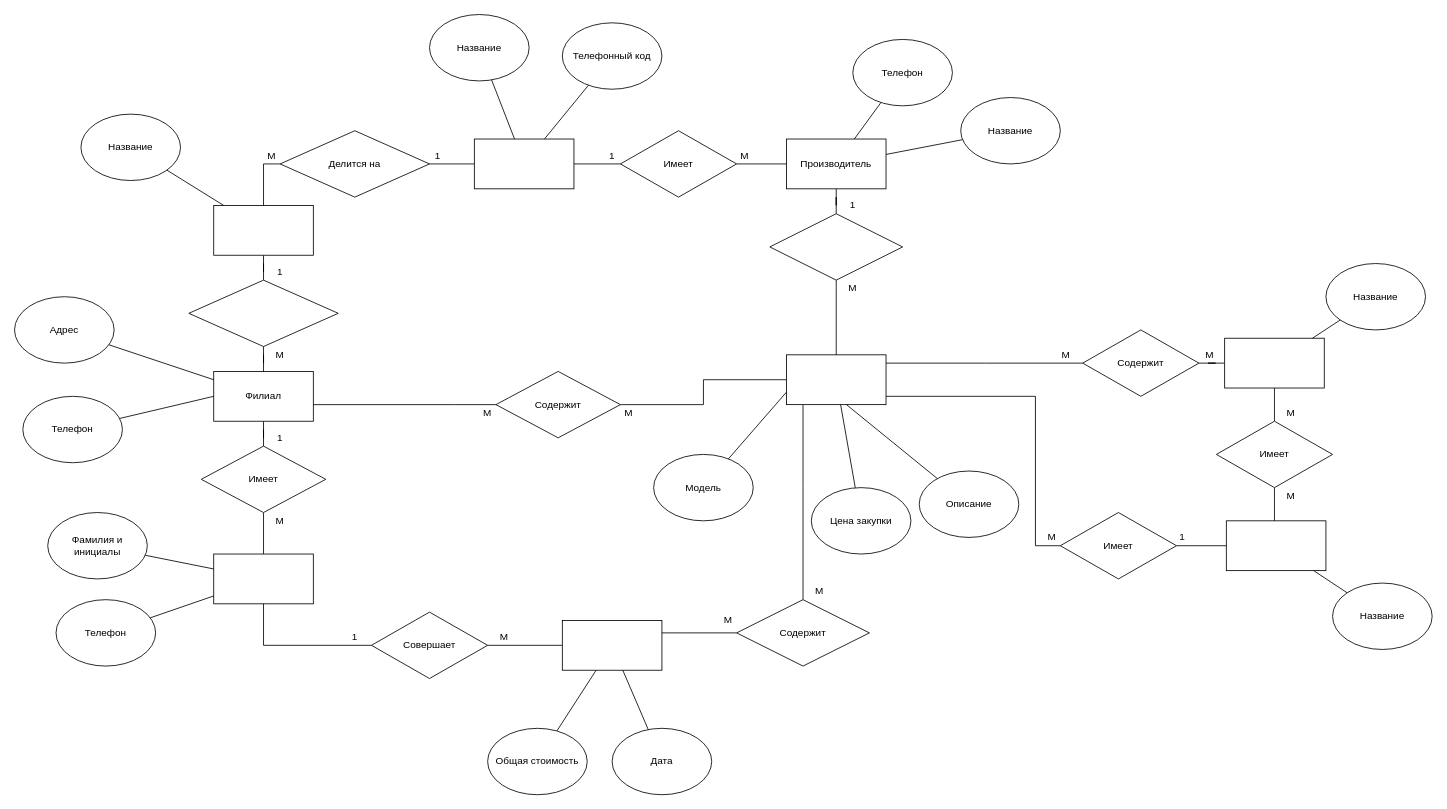
The diagram is 1447 pixels wide and 809 high, and some of its shapes have lost their labels. The box of each missing label's shape, as (x1, y1, x2, y2) in pixels:
Город: (213, 205, 313, 255)
Находится: (188, 279, 338, 347)
Покупка: (561, 620, 662, 670)
Продавец: (213, 553, 313, 604)
Производит: (769, 213, 903, 280)
Страна: (474, 138, 574, 189)
Тип: (1225, 520, 1326, 571)
Товар: (786, 354, 886, 405)
Характеристика: (1224, 337, 1324, 388)
